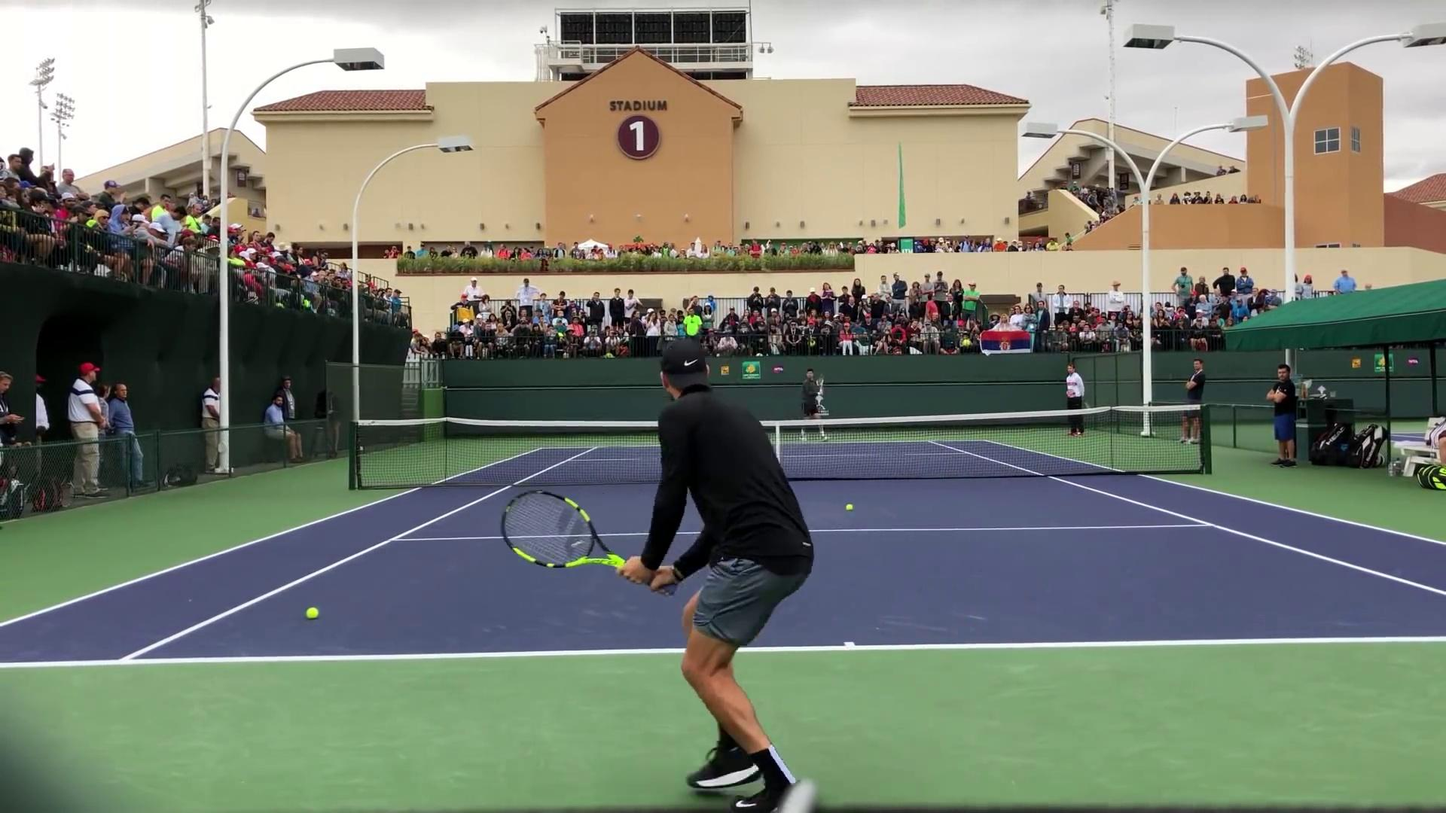ball: (306, 606, 319, 619), (845, 503, 854, 512)
